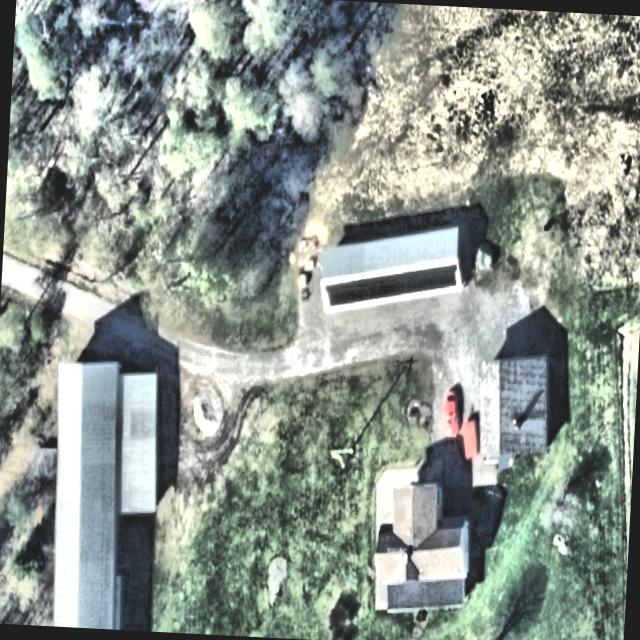roof_pv: (362, 266, 396, 310), (323, 276, 362, 312), (394, 262, 428, 302), (427, 260, 461, 294)
